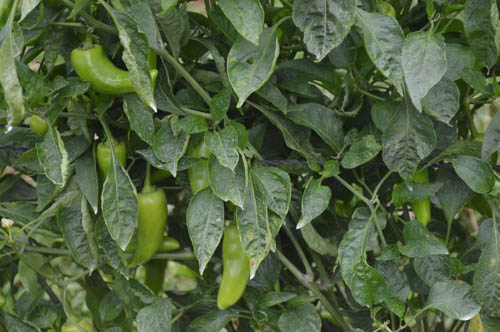ChiliPepper: (73, 46, 164, 98), (216, 226, 255, 313), (126, 189, 167, 269), (184, 132, 219, 207), (404, 162, 434, 227), (98, 143, 133, 195)
